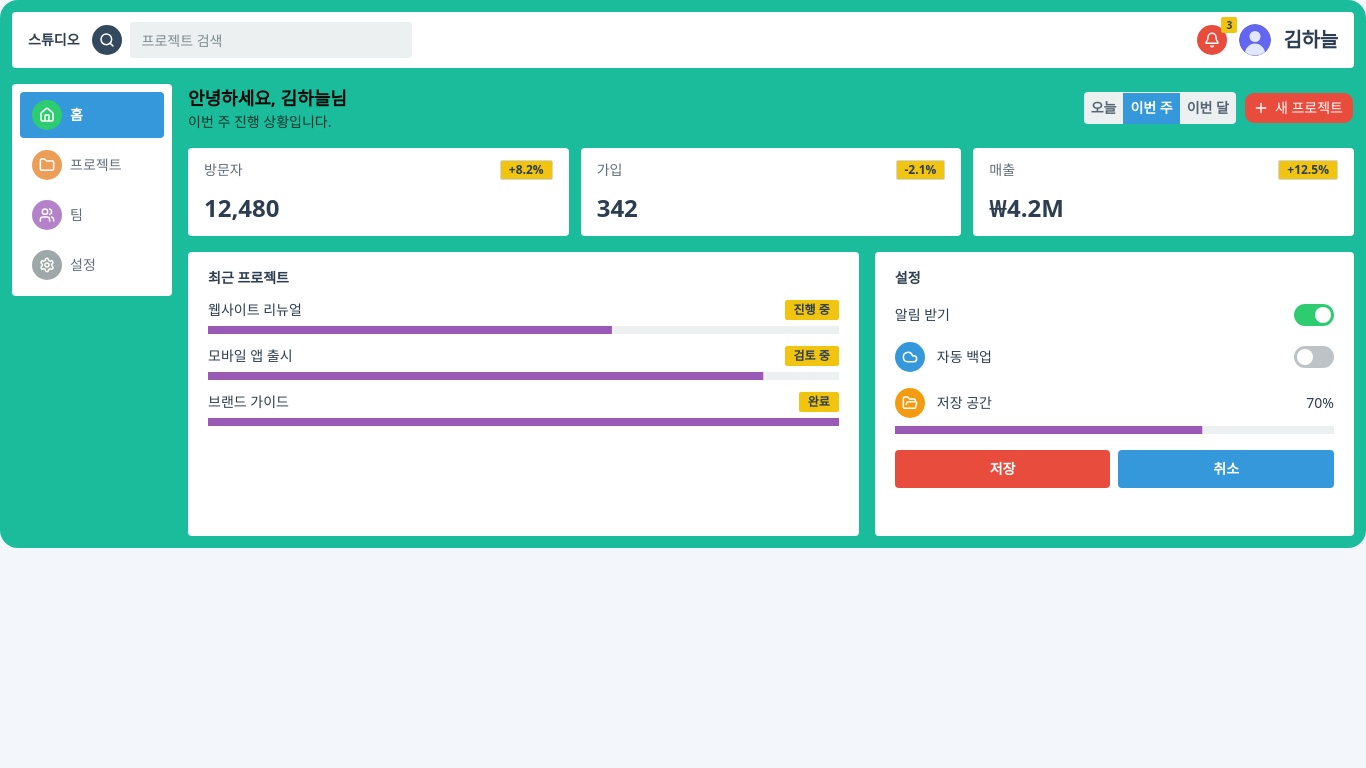
things to try on the dashboard (D-019) › changes the numbers with the period tabs
This screenshot has width=1366, height=768.
Expected: the text "12,480" is shown, x1=204 y1=191 x2=280 y2=224
Click the tab "이번 달" at (1208, 108), box x1=1180 y1=92 x2=1236 y2=124
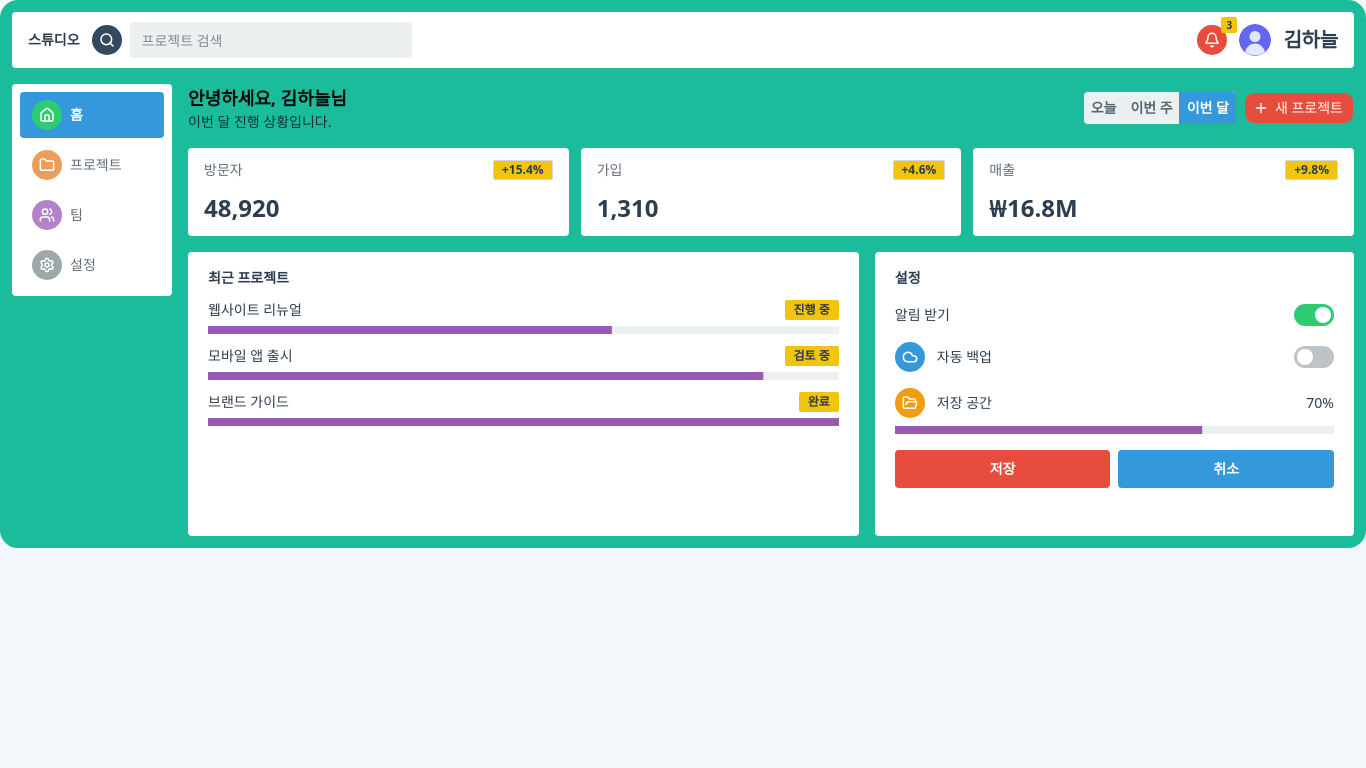
Expected: the text "48,920" is shown, x1=204 y1=191 x2=280 y2=224
Click the tab "오늘" at (1104, 108), box x1=1084 y1=92 x2=1123 y2=124
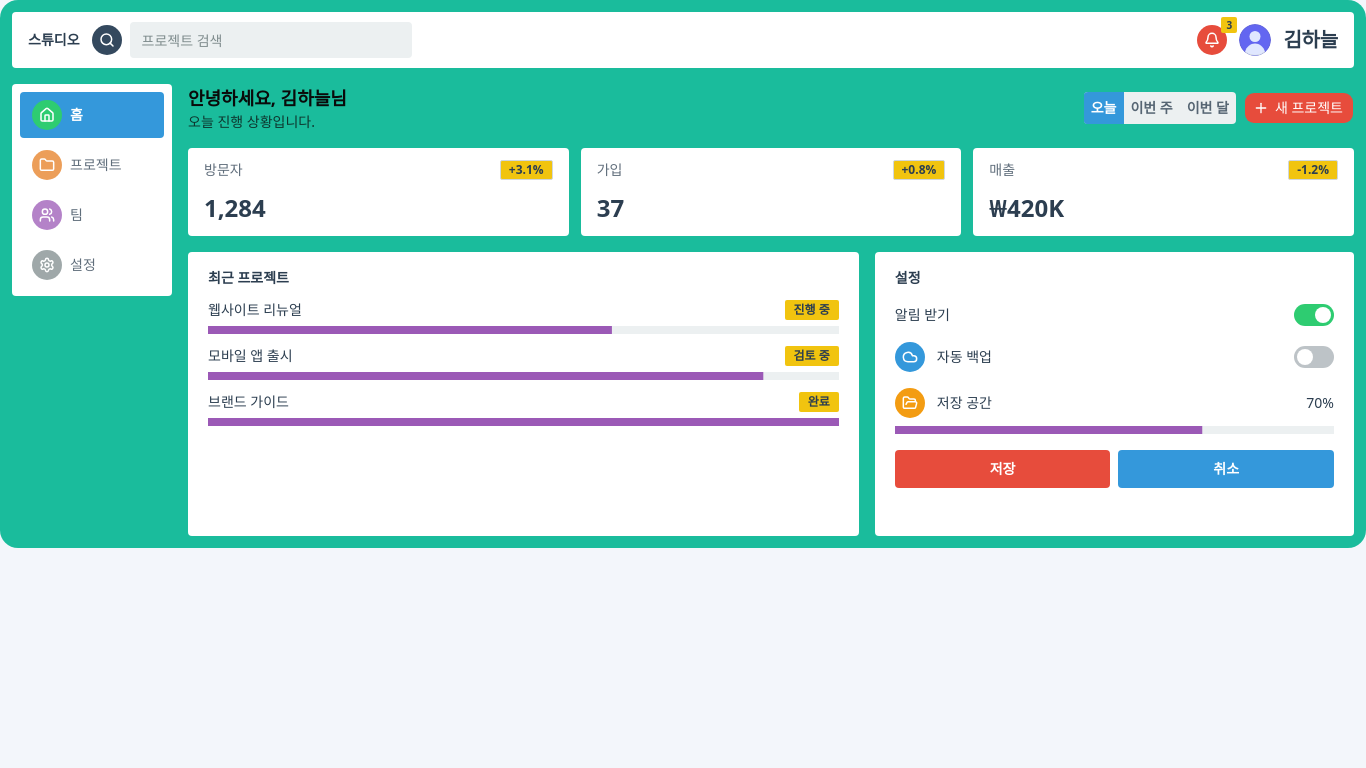
Expected: the text "1,284" is shown, x1=204 y1=191 x2=266 y2=224
